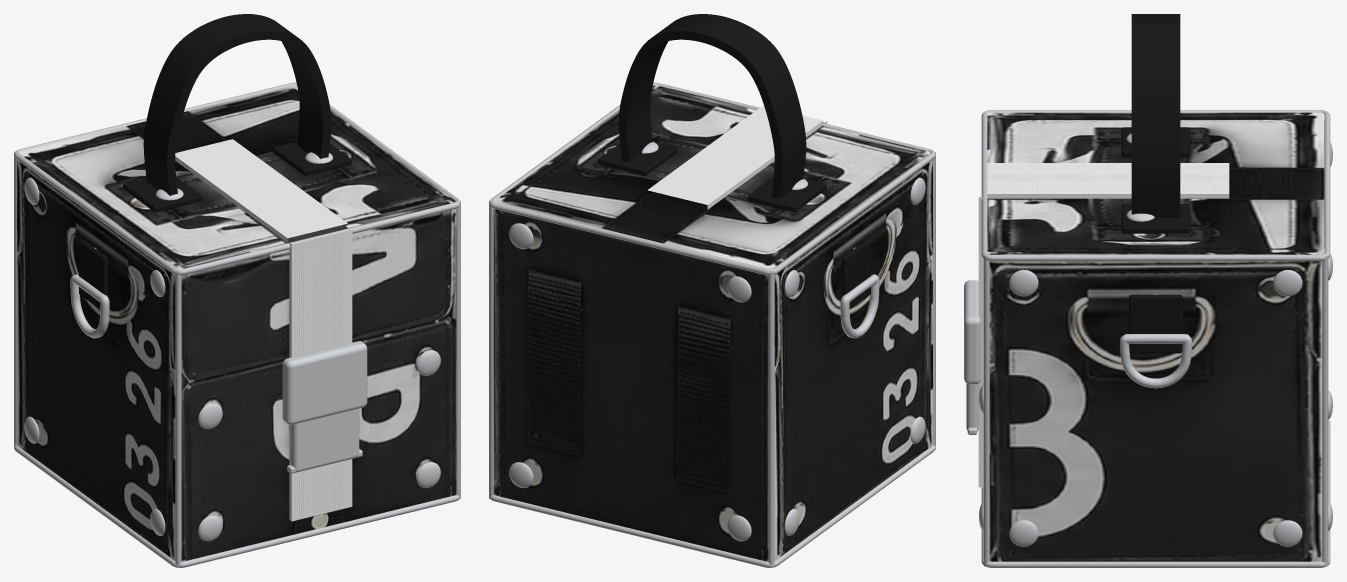
The model's file is mini-box.glb.
3 views of the same model, side by side, from view 1: azimuth 30°, elevation 25°; view 2: azimuth 150°, elevation 25°; view 3: azimuth 270°, elevation 25° (orthographic). The views are drawn at different scales.
Parts seen in each view (by area): view 1: Body_Shell, Body_Shell_Top, Trim_Edge (×5), Handle_Top, Strap_Front, Hardware_Buckle, Strap_Front_Top, Handle_Tab (×2), DRing_Tab, Hardware_DRing; view 2: Body_Shell, Body_Shell_Top, Trim_Edge (×5), Handle_Top, Strap_Front_Top, Handle_Tab (×2), DRing_Tab, Hardware_DRing; view 3: Body_Shell, Body_Shell_Top, Trim_Edge (×4), Handle_Top, Strap_Front_Top, DRing_Tab, Hardware_Rivet (×4), Hardware_Buckle, Handle_Tab (×2), Hardware_DRing, Strap_Front.
Boxes of the visible parts, x1,y1,x2,y2 form: Body_Shell: (17, 160, 456, 561); Body_Shell_Top: (19, 85, 455, 268); Trim_Edge (×5): (14, 82, 460, 567); Handle_Top: (143, 14, 331, 195); Strap_Front: (289, 230, 352, 521); Hardware_Buckle: (282, 341, 367, 473); Strap_Front_Top: (175, 139, 347, 242); Handle_Tab (×2): (123, 141, 351, 212); DRing_Tab: (79, 239, 107, 309); Hardware_DRing: (70, 274, 109, 338); Body_Shell: (493, 160, 932, 561); Body_Shell_Top: (494, 85, 930, 268); Trim_Edge (×5): (489, 82, 935, 567); Handle_Top: (618, 14, 806, 198); Strap_Front_Top: (647, 106, 823, 209); Handle_Tab (×2): (598, 141, 826, 212); DRing_Tab: (842, 239, 870, 309); Hardware_DRing: (840, 274, 879, 338); Body_Shell: (989, 261, 1322, 561); Body_Shell_Top: (987, 112, 1324, 254); Trim_Edge (×4): (981, 110, 1330, 567); Handle_Top: (1131, 14, 1180, 217); Strap_Front_Top: (987, 163, 1229, 198); DRing_Tab: (1129, 294, 1182, 353); Hardware_Rivet (×4): (1009, 270, 1302, 546); Hardware_Buckle: (964, 280, 980, 434); Handle_Tab (×2): (1121, 127, 1190, 233); Hardware_DRing: (1120, 334, 1191, 388); Strap_Front: (978, 197, 983, 487).
Bounding box in the file's own units: 0.15 × 0.2126 × 0.1509.
8 materials, 4 textured.
